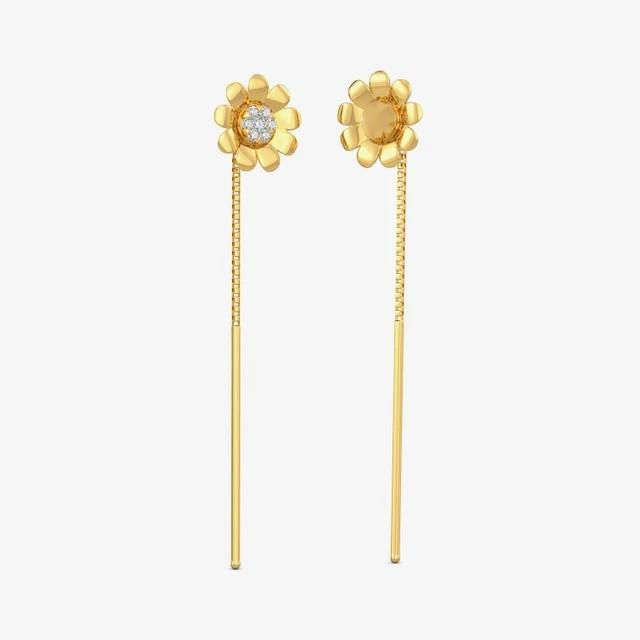missing gem: (363, 100, 397, 139)
